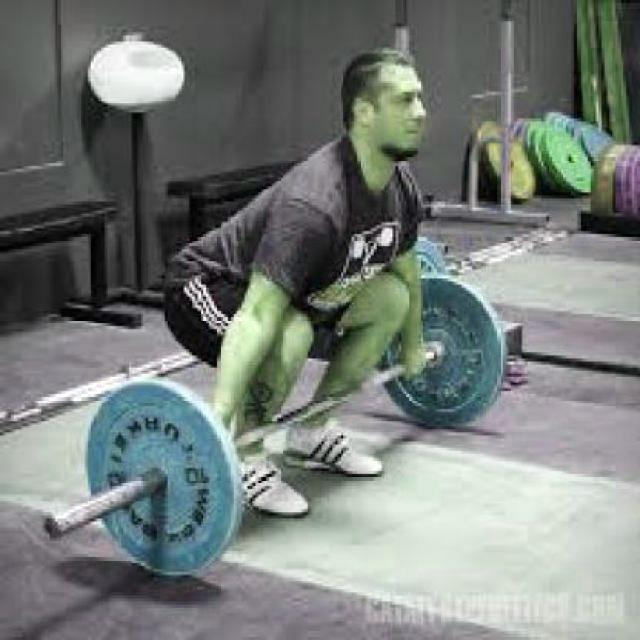barbell: (40, 375, 240, 584)
